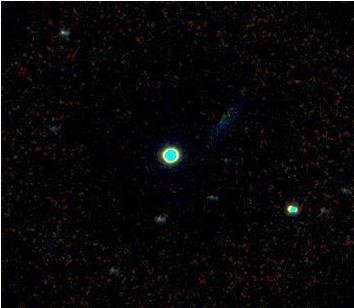star: (213, 101, 243, 131)
